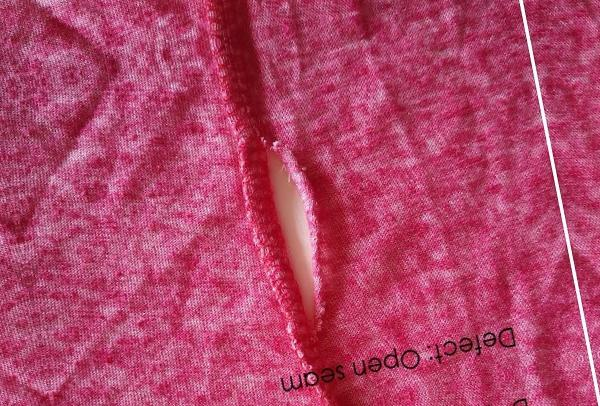hole: (246, 132, 333, 345)
